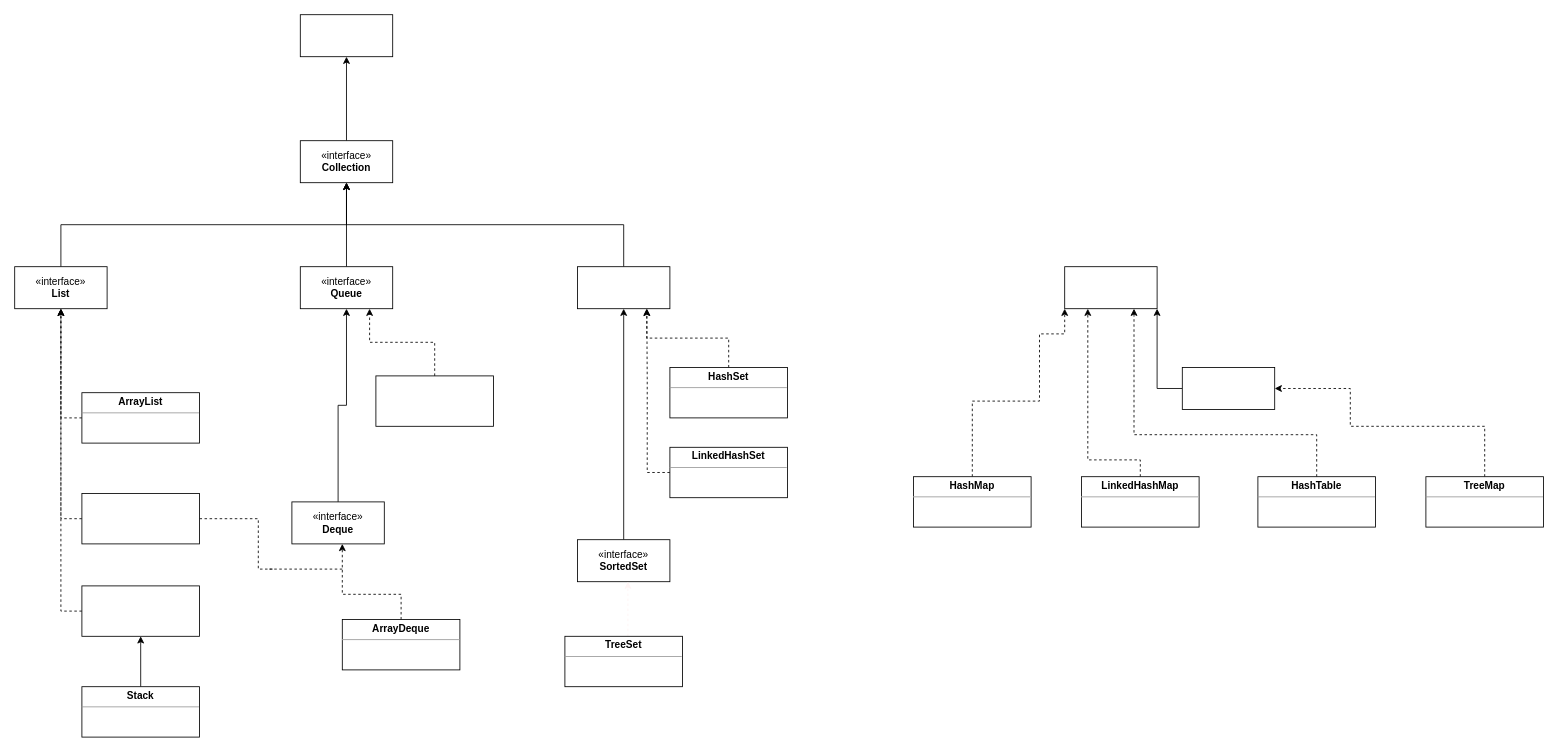
Image size: 1558x752. Some labels were removed from this diagram. Here are the shapes that lost their labels. From the top down, the centre of each, then its label:
(x=346, y=35): «interface» Iterable
(x=623, y=287): «interface» Set
(x=1110, y=287): «interface» Map
(x=434, y=400): PrioriryQueue
(x=1228, y=388): «interface» SortedMap
(x=140, y=518): LinkedList
(x=140, y=610): Vector
